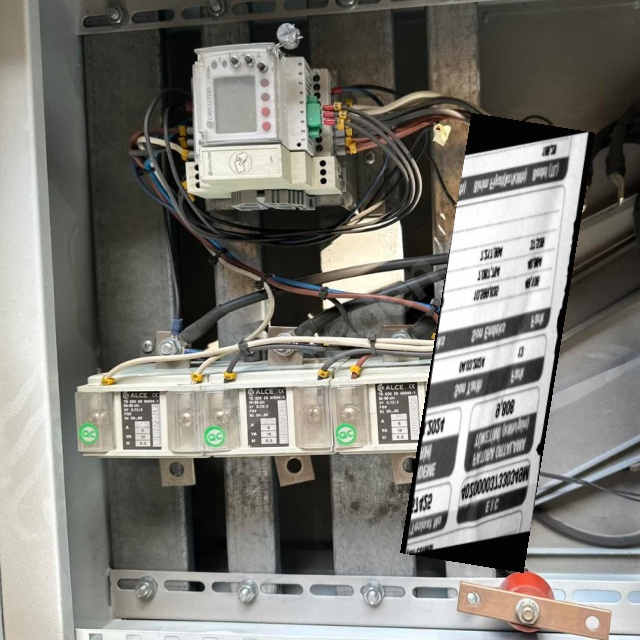electricity-bill: (400, 112, 595, 572)
